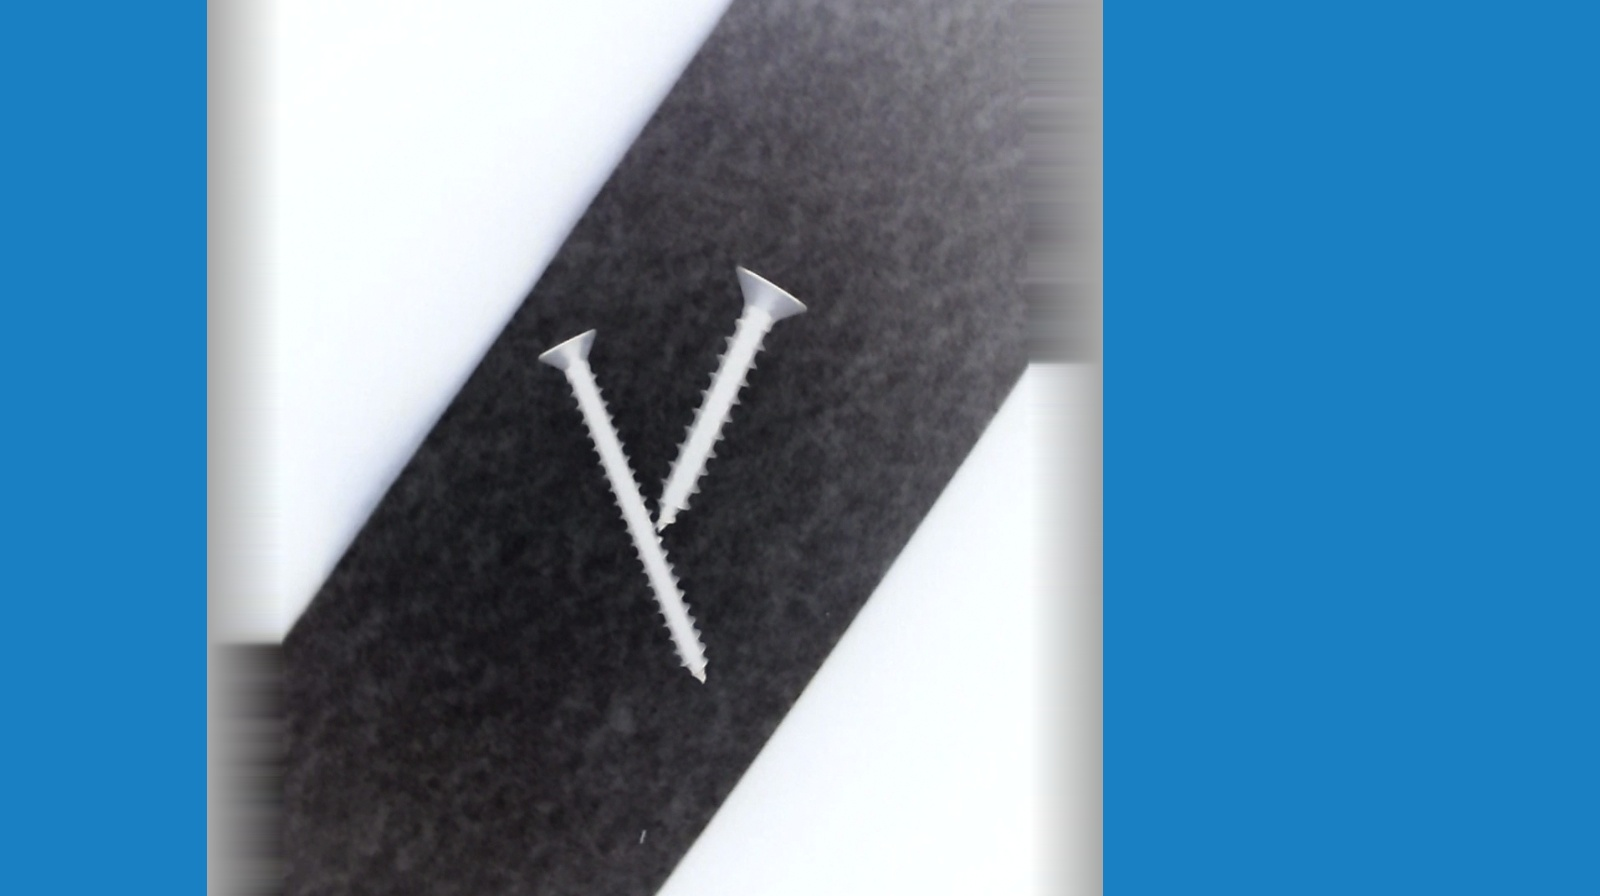S001: (654, 259, 809, 537)
S002: (530, 327, 710, 687)
